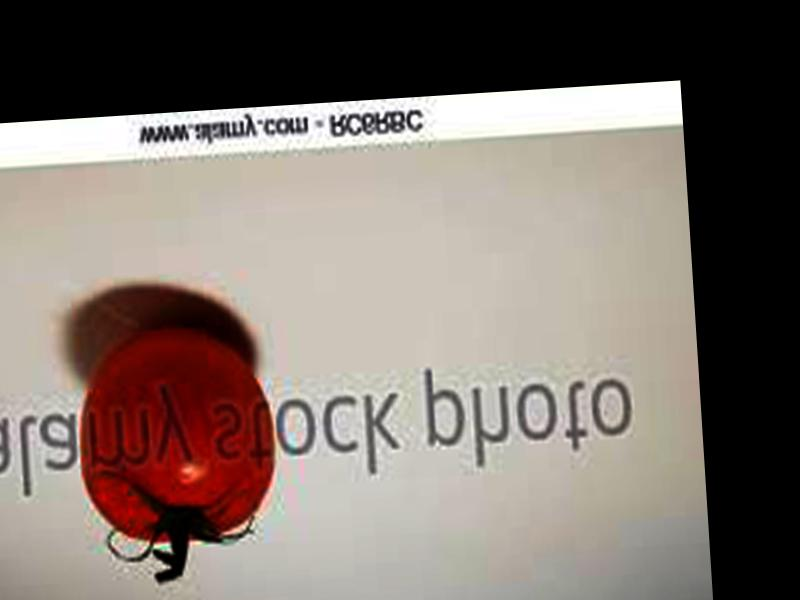Tomato: (73, 322, 281, 550)
